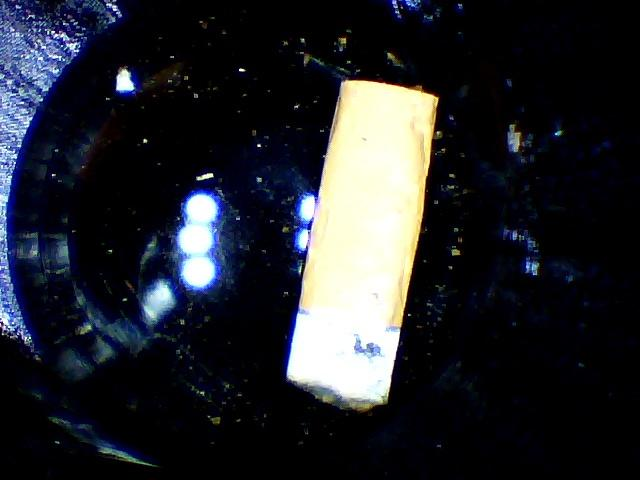megot: (265, 70, 450, 417)
